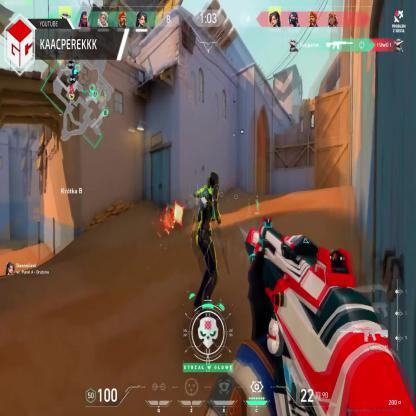enemy: (192, 169, 218, 314)
enemy_head: (209, 170, 219, 192)
